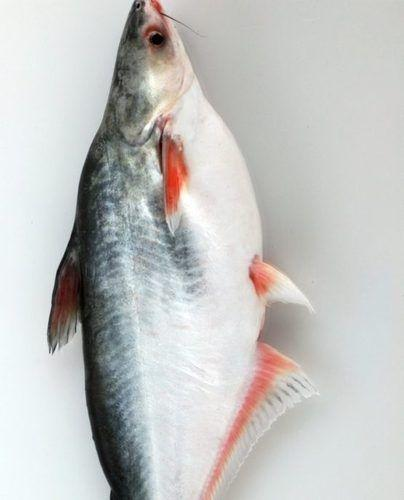Pangasius: (47, 0, 321, 500)
